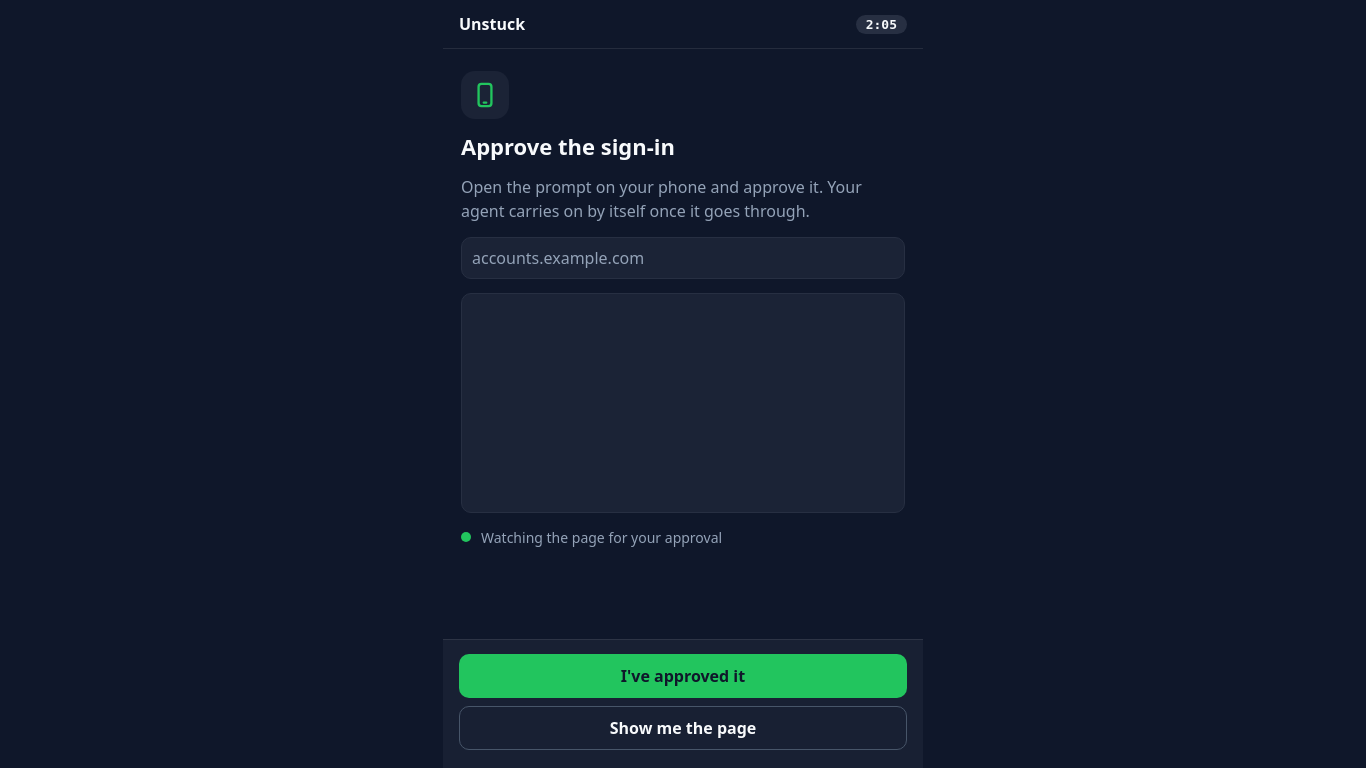
Test: approval screen › Show me the page sends switch_control, and a control mode frame shows the live view
Step 1. Click the button "Show me the page" → (683, 728), box [459,706,907,750]
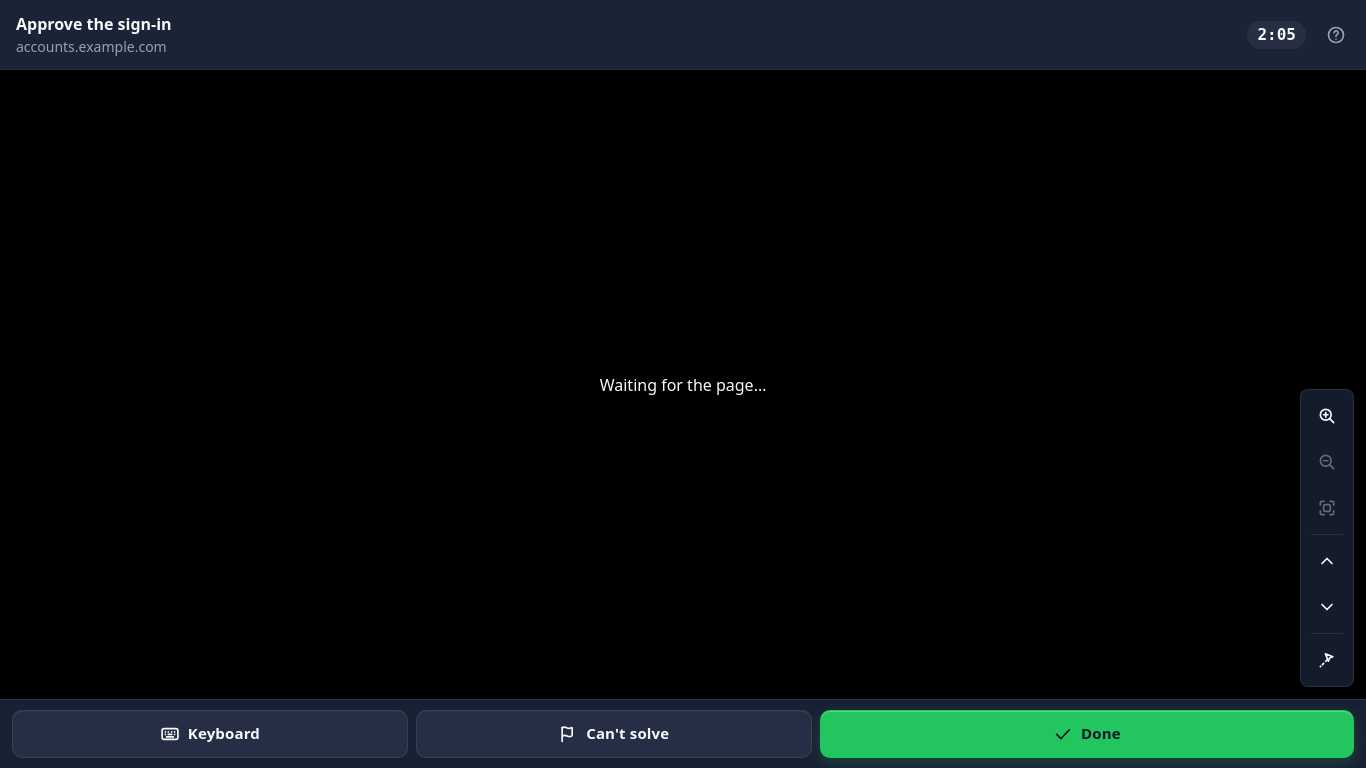
Check: the drawing with test id "screen" is shown
Check: the button "Done" is shown, box [820,710,1354,758]
